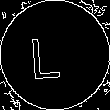L_N: (38, 29, 72, 81)
